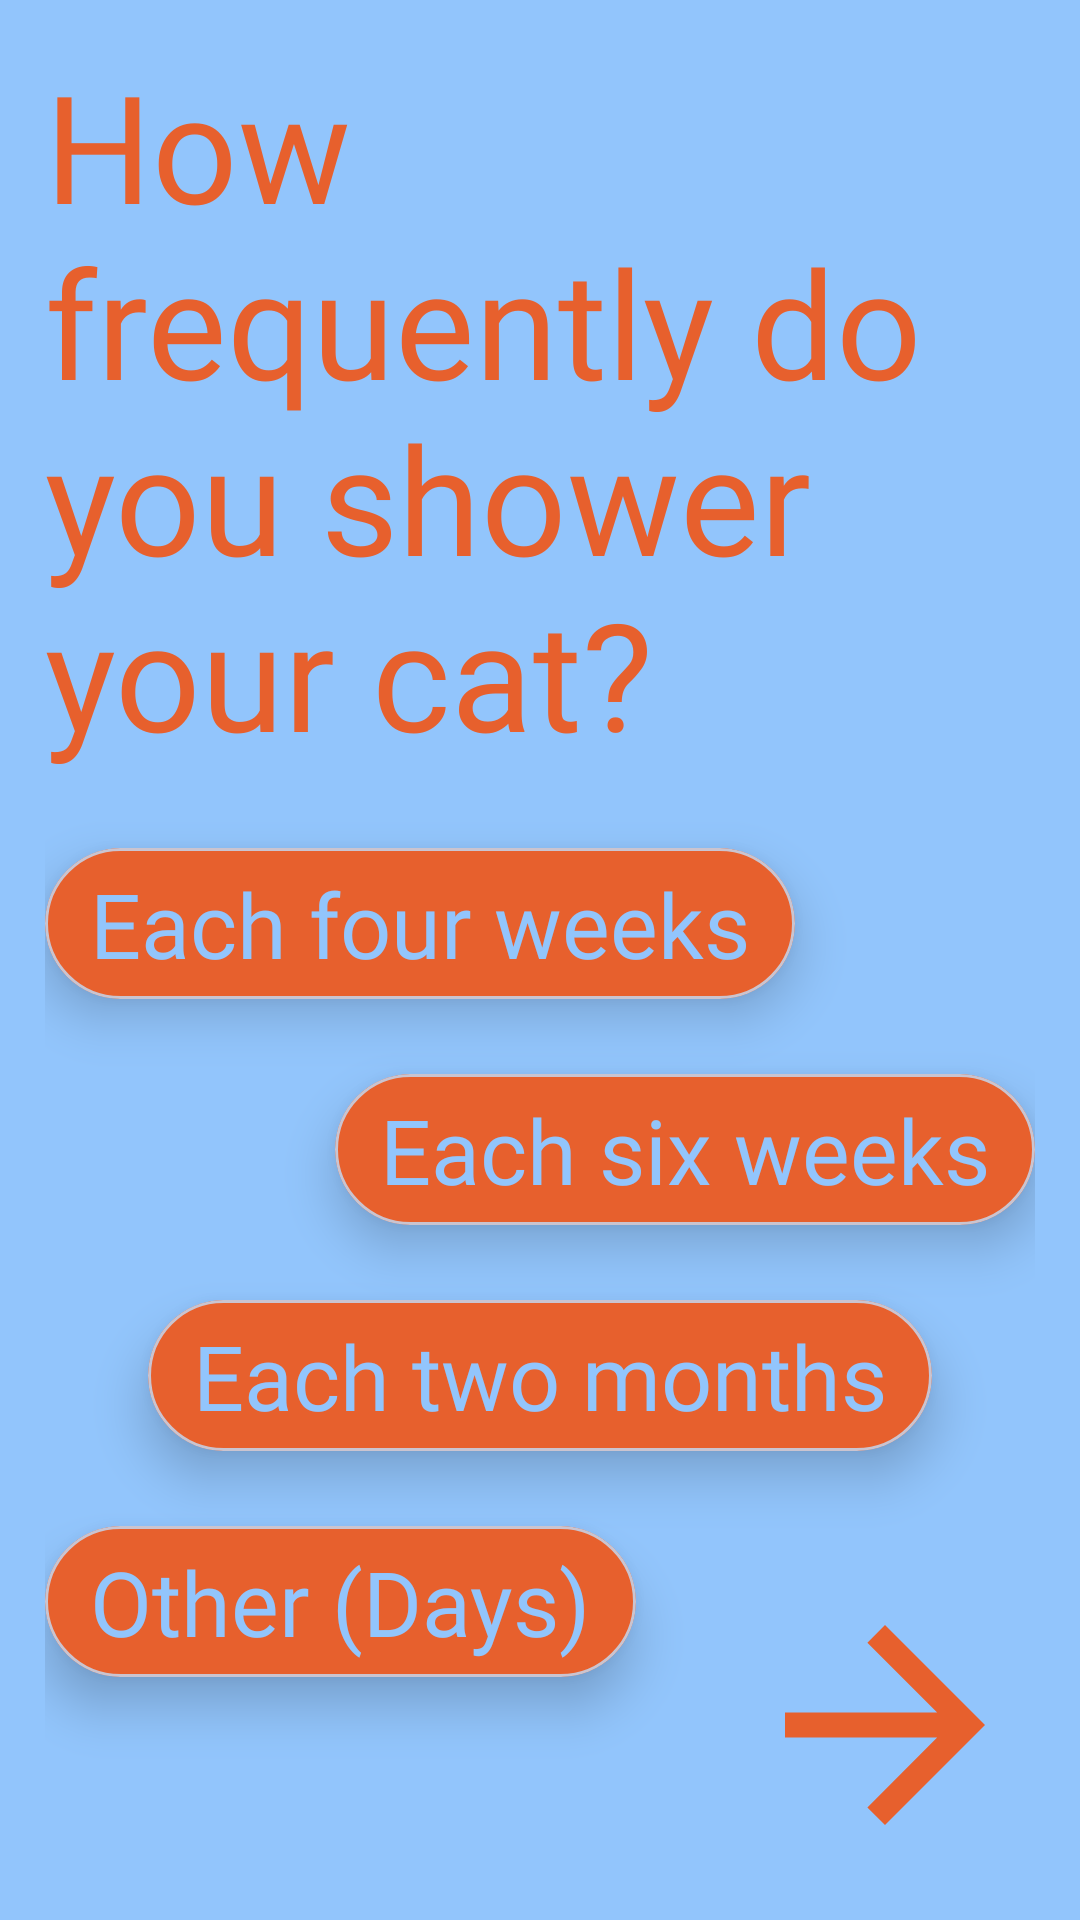

Icon click points for this 1080x1920 phone screenshot, format [x,y]:
arrow forward: [885,1725]
